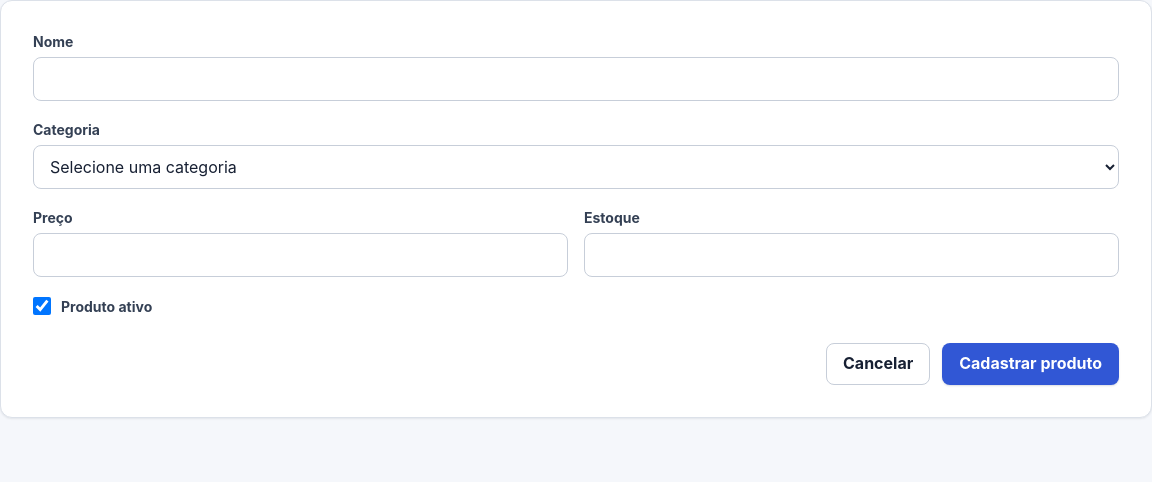
it: ProductForm › validates minimum name, positive price and nonnegative stock
The image size is (1152, 482).
Type "AB" into the field labelled "Nome" at x=576, y=79, box [33,57,1119,101]
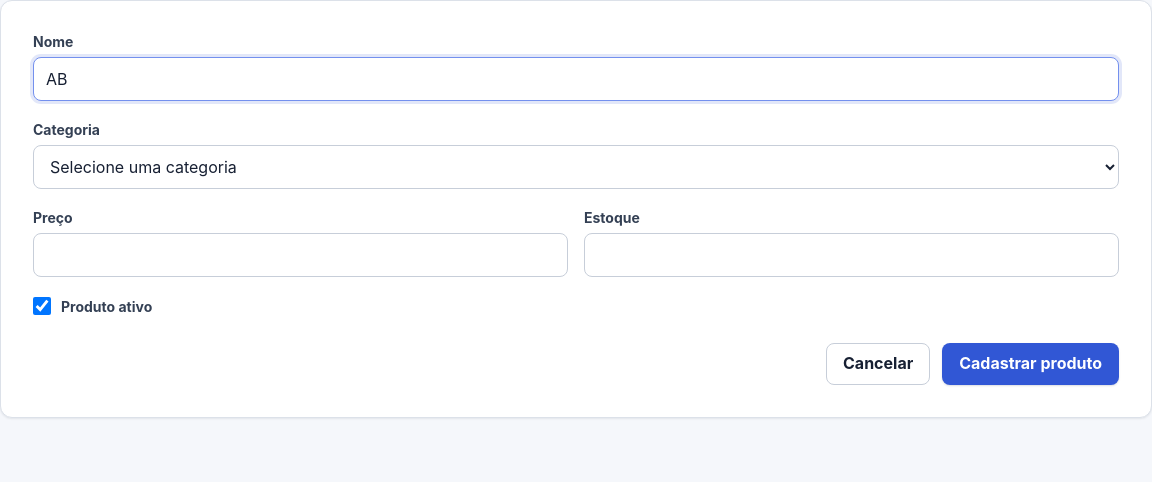
Select "Áudio" in the dropdown labelled "Categoria" at x=576, y=167, box [33,145,1119,189]
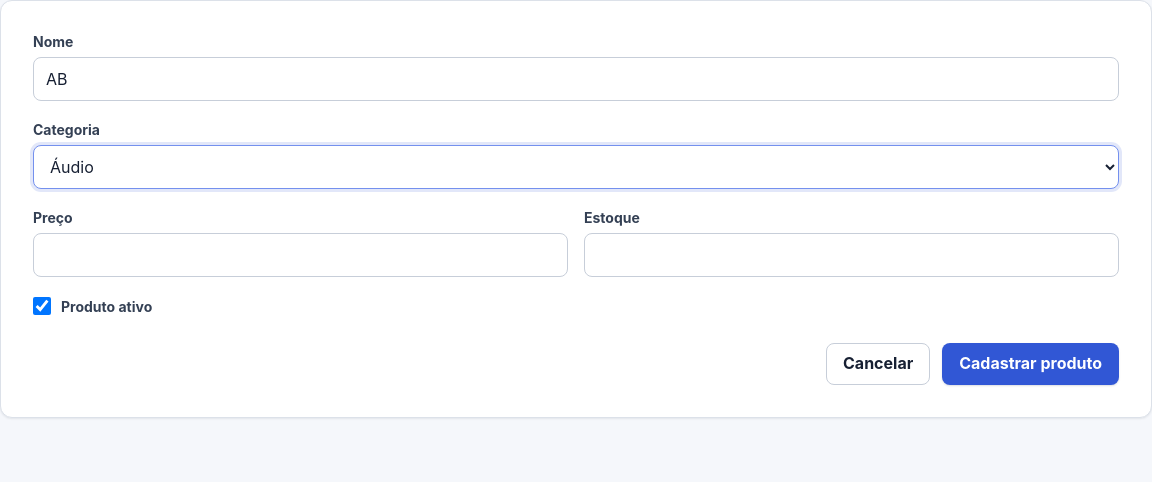
Type "0" into the number field labelled "Preço" at x=300, y=255, box [33,233,568,277]
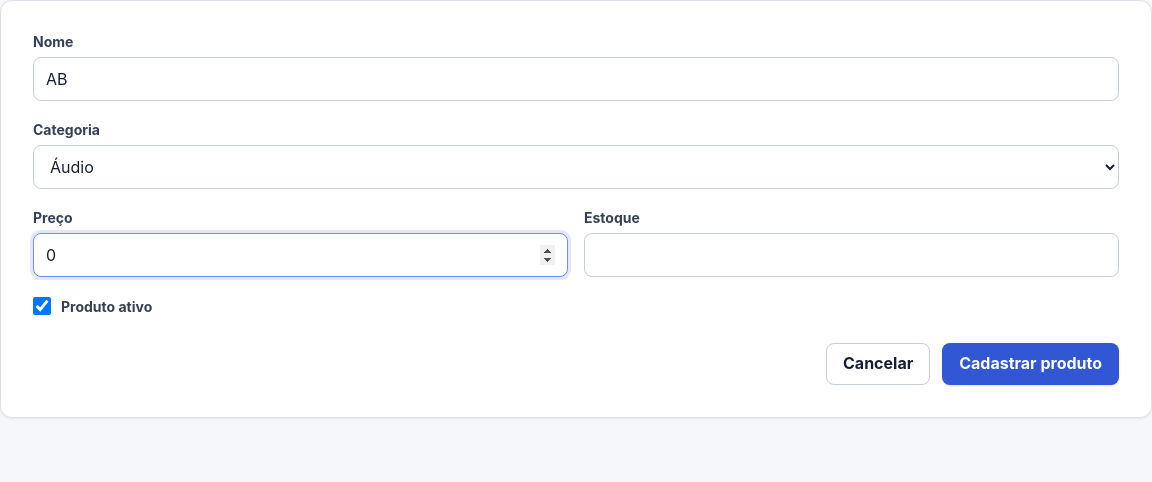
Type "-1" into the number field labelled "Estoque" at x=852, y=255, box [584,233,1119,277]
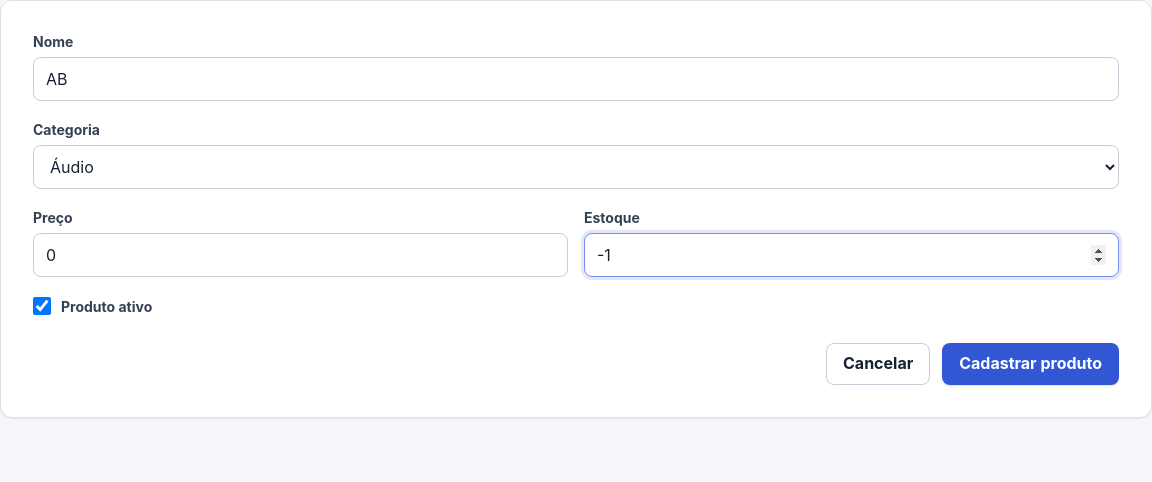
Click the button "Cadastrar produto" at x=1031, y=364, box [942,343,1119,385]
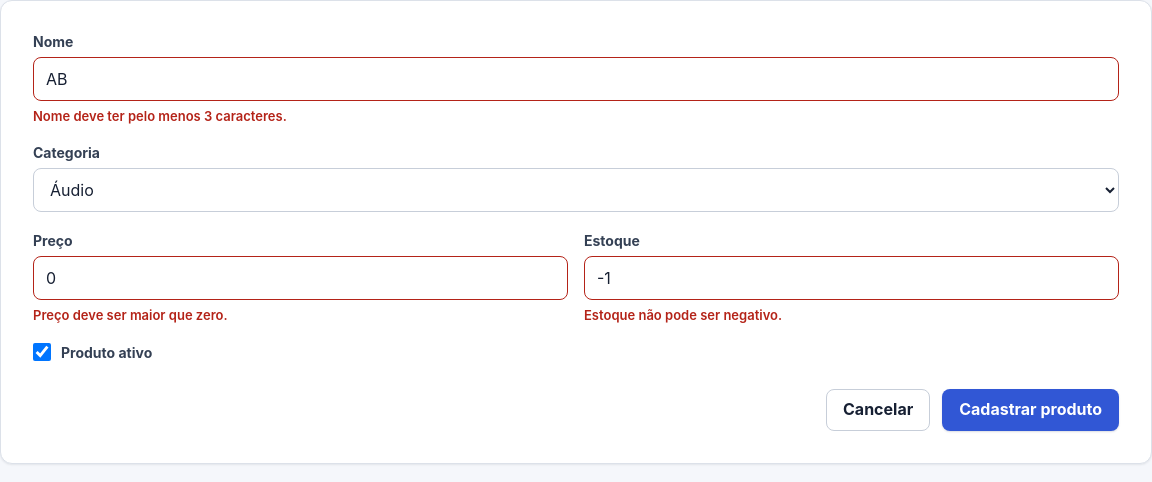
expect the text "Nome deve ter pelo menos 3 caracteres." is shown: met, box [33,108,287,124]
expect the text "Preço deve ser maior que zero." is shown: met, box [33,307,228,323]
expect the text "Estoque não pode ser negativo." is shown: met, box [584,307,782,323]
